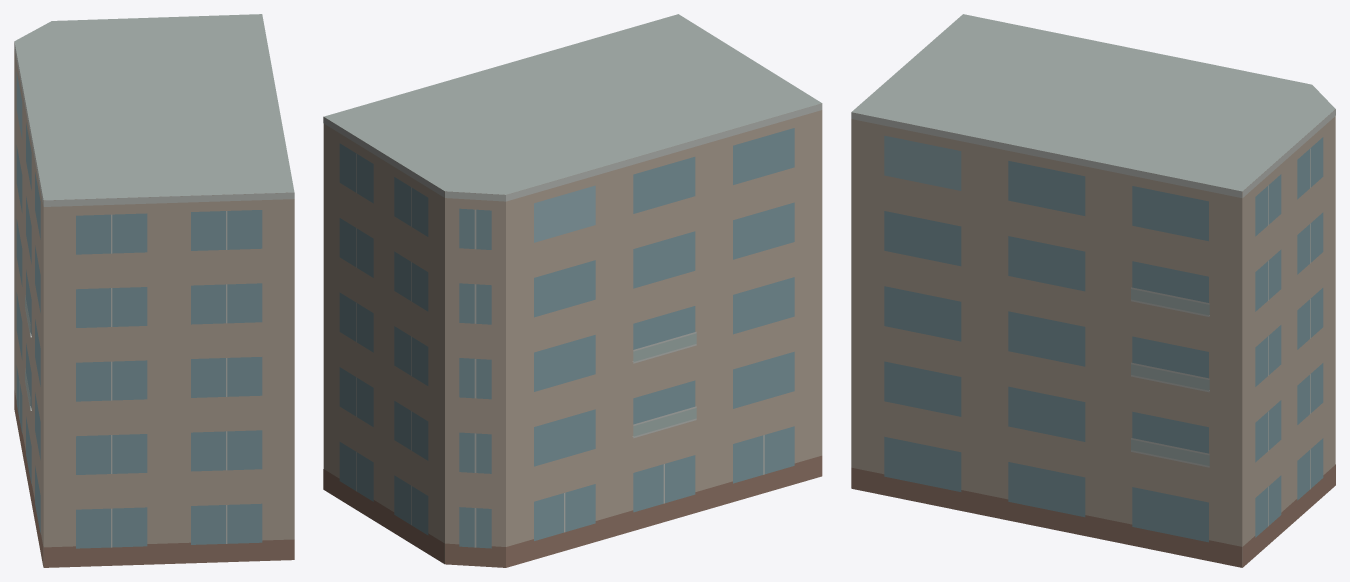
Rendered from survey-upis-32633238.glb.
3 views of the same model, side by side, from view 1: azimuth 30°, elevation 25°; view 2: azimuth 150°, elevation 25°; view 3: azimuth 270°, elevation 25° (orthographic). The views are drawn at different scales.
Parts seen in each view (by area): view 1: survey-upis-32633238.tmp; view 2: survey-upis-32633238.tmp; view 3: survey-upis-32633238.tmp.
Part boxes in pixels (x1,y1,x2,y2): survey-upis-32633238.tmp: [14, 14, 294, 567]; survey-upis-32633238.tmp: [323, 14, 822, 567]; survey-upis-32633238.tmp: [851, 14, 1335, 567].
Bounding box in the file's own units: 13.71 × 13.55 × 15.82.
